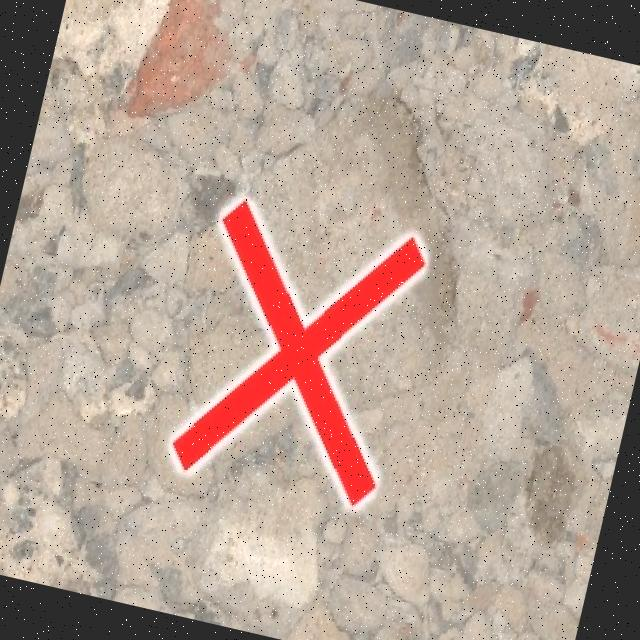x_marker: (165, 193, 430, 510)
